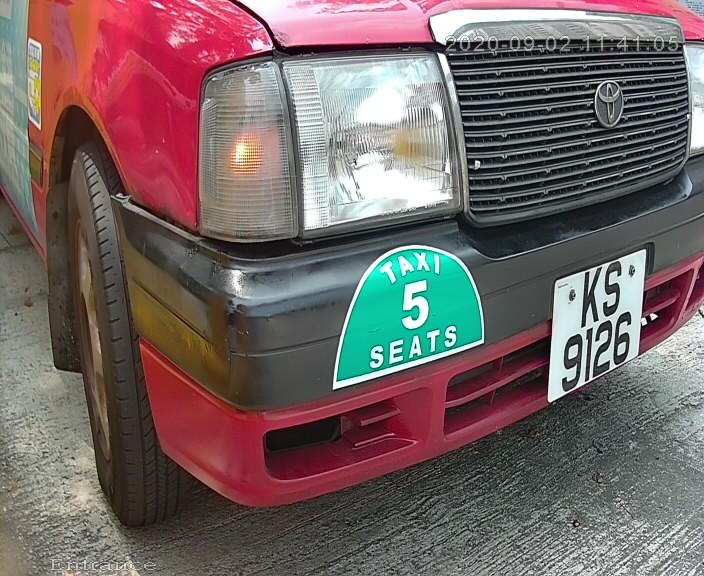License Plate: (541, 247, 648, 404)
